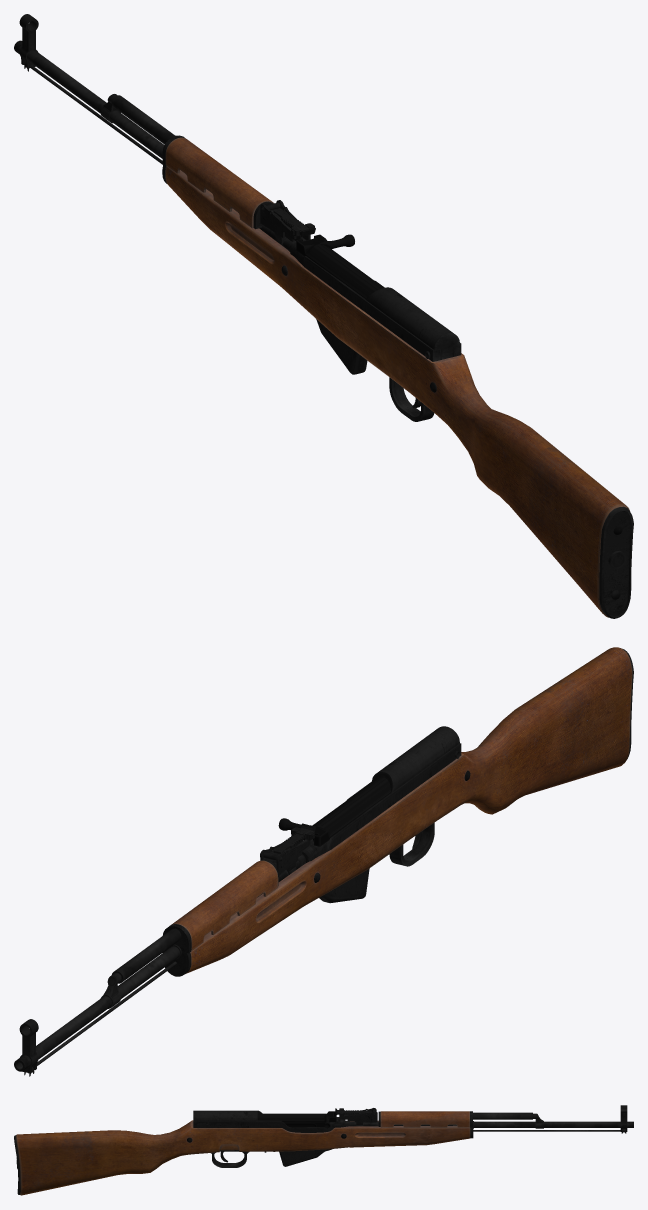
3 views of the same model, one above another, from view 1: azimuth 30°, elevation 25°; view 2: azimuth 150°, elevation 25°; view 3: azimuth 270°, elevation 25° (orthographic). The views are drawn at different scales.
Parts seen in each view (by area): view 1: sks_STOCK_MAIN_LOW, sks_HG_MAIN_LOW, sks_REAR_CLEANER_LOW, sks_BH_LOW, sks_BP_LOW, sks_BC_LOW3, sks_BE_LOW, sks_GC_LOW, sks_AC_LOW; view 2: sks_STOCK_MAIN_LOW, sks_HG_MAIN_LOW, sks_BP_LOW, sks_BE_LOW, sks_BH_LOW, sks_BC_LOW3, sks_GC_LOW, sks_AC_LOW, sks_TH_LOW, sks_FRONT_SIGHT_LOW, sks_SIGHT_MAIN_LOW, sks_PISTON_LOW; view 3: sks_STOCK_MAIN_LOW, sks_HG_MAIN_LOW, sks_BP_LOW, sks_BE_LOW, sks_BC_LOW3, sks_BH_LOW, sks_AC_LOW, sks_GC_LOW, sks_SIGHT_MAIN_LOW, sks_PISTON_LOW, sks_TH_LOW, sks_HOLDER_LOW (+2 smaller).
Boxes of the visible parts, x1,y1,x2,y2 form: sks_STOCK_MAIN_LOW: (165, 166, 629, 617); sks_HG_MAIN_LOW: (165, 137, 273, 228); sks_REAR_CLEANER_LOW: (599, 506, 633, 618); sks_BH_LOW: (365, 287, 459, 359); sks_BP_LOW: (14, 40, 294, 251); sks_BC_LOW3: (296, 234, 383, 298); sks_BE_LOW: (289, 241, 461, 361); sks_GC_LOW: (112, 96, 175, 144); sks_AC_LOW: (316, 319, 367, 374); sks_STOCK_MAIN_LOW: (185, 647, 632, 973); sks_HG_MAIN_LOW: (171, 860, 278, 950); sks_BP_LOW: (14, 860, 300, 1071); sks_BE_LOW: (298, 743, 461, 866); sks_BH_LOW: (372, 726, 459, 793); sks_BC_LOW3: (278, 777, 390, 846); sks_GC_LOW: (116, 928, 181, 981); sks_AC_LOW: (319, 868, 369, 903); sks_TH_LOW: (389, 822, 434, 866); sks_FRONT_SIGHT_LOW: (19, 1019, 38, 1073); sks_SIGHT_MAIN_LOW: (260, 840, 308, 875); sks_PISTON_LOW: (37, 961, 176, 1065); sks_STOCK_MAIN_LOW: (16, 1120, 470, 1195); sks_HG_MAIN_LOW: (380, 1111, 469, 1127); sks_BP_LOW: (350, 1121, 633, 1127); sks_BE_LOW: (193, 1119, 349, 1132); sks_BC_LOW3: (257, 1111, 336, 1128); sks_BH_LOW: (193, 1110, 262, 1121); sks_AC_LOW: (279, 1149, 332, 1166); sks_GC_LOW: (473, 1112, 532, 1119); sks_SIGHT_MAIN_LOW: (343, 1108, 376, 1126); sks_PISTON_LOW: (473, 1130, 620, 1131); sks_TH_LOW: (211, 1152, 248, 1167); sks_HOLDER_LOW: (284, 1122, 324, 1127).
Bounding box in the file's own units: 0.824 × 2.51 × 15.75.
1 material, 1 textured.
